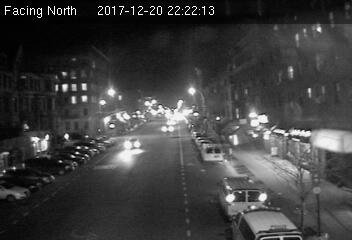car: (124, 137, 142, 148)
police: (233, 202, 300, 240), (218, 175, 268, 207)
truck: (202, 143, 224, 163)
